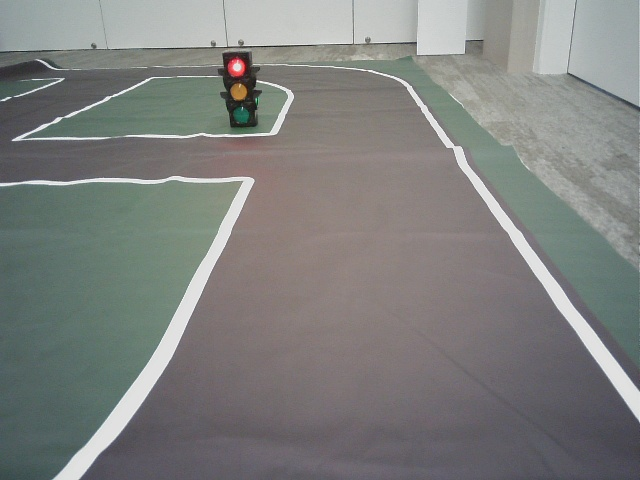red: (225, 53, 255, 126)
